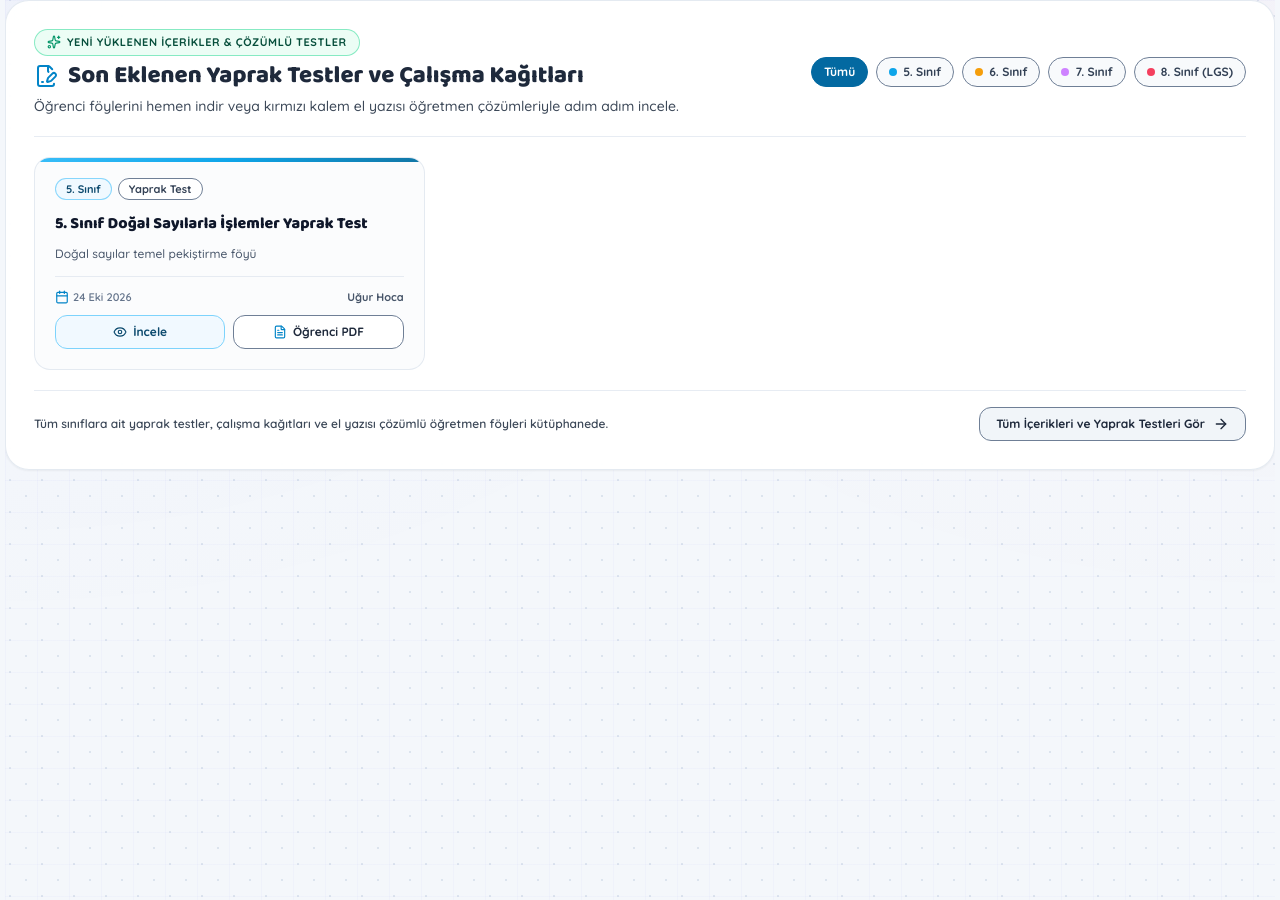
Test: HomeRecentDocumentsSection › seçili sınıfta doküman yoksa boş durum mesajını ve kütüphane bağlantısını gösterir
# Sınıf sekmesine tıkla
Click the tab "8. Sınıf (LGS)" at (1190, 72), box [1134, 57, 1246, 87]
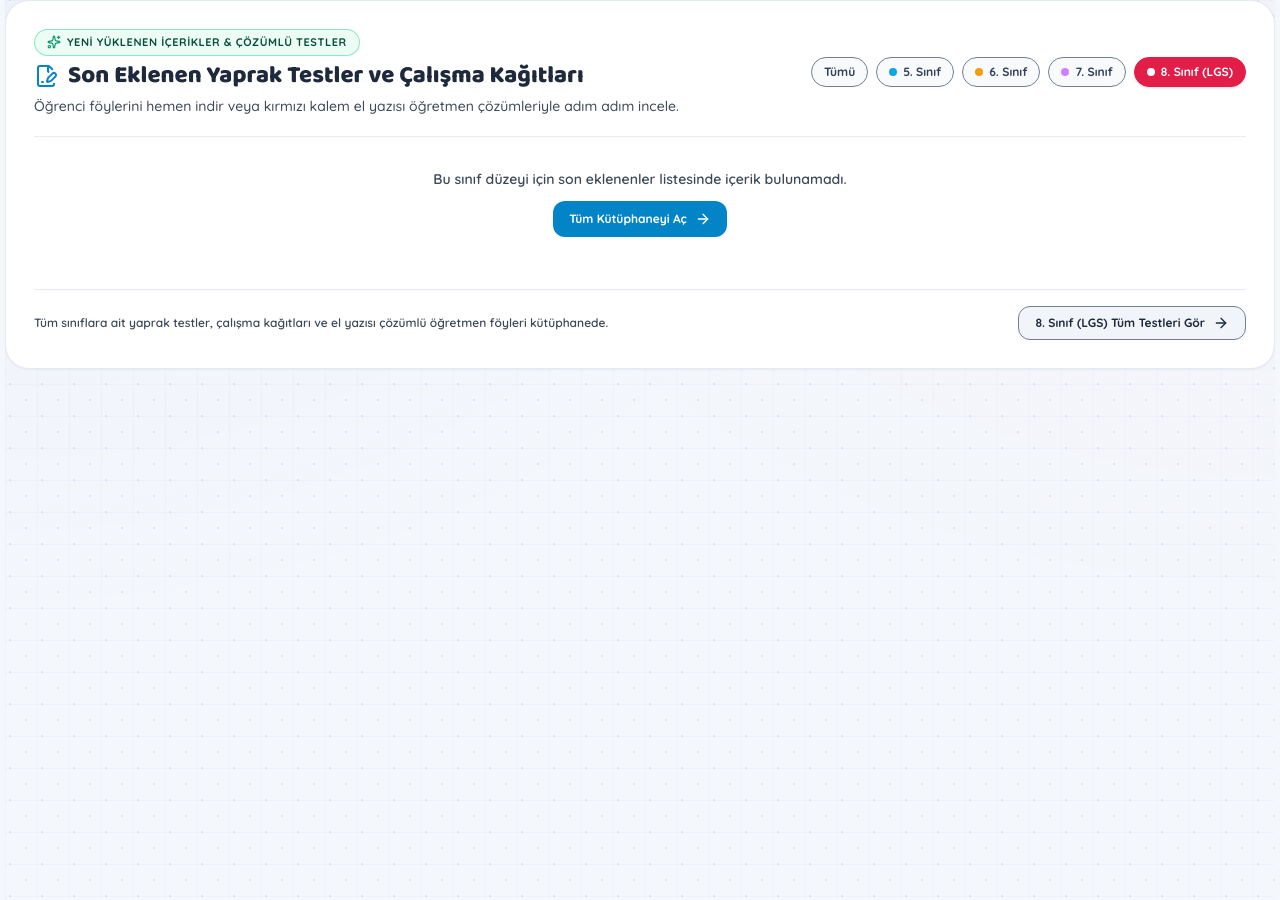
Expected: the text "Bu sınıf düzeyi için son eklenenler listesinde içerik bulunamadı." is shown, [433, 170, 847, 188]
